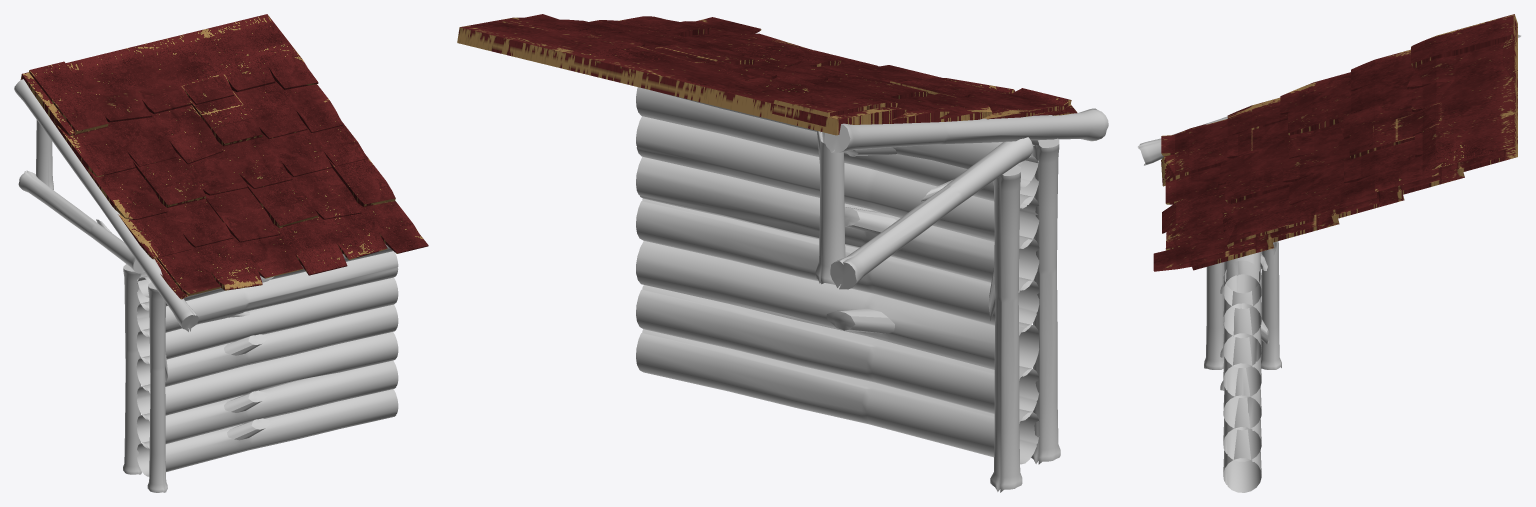
Rendered from logCabin_middleWall.fbx.
The picture shows the model from 3 angles, left to right: view 1: azimuth 30°, elevation 25°; view 2: azimuth 150°, elevation 25°; view 3: azimuth 270°, elevation 25°; orthographic projection. The views are drawn at different scales.
Parts seen in each view (by area): view 1: polySurface45, polySurface46; view 2: polySurface46, polySurface45; view 3: polySurface45, polySurface46.
Part boxes in pixels (bbox=[...]): polySurface45: bbox=[20, 14, 428, 299]; polySurface46: bbox=[14, 79, 398, 492]; polySurface46: bbox=[636, 87, 1108, 492]; polySurface45: bbox=[457, 14, 1077, 135]; polySurface45: bbox=[1153, 14, 1517, 271]; polySurface46: bbox=[1138, 34, 1520, 492].
Size of the model in its own units: 276 by 334 by 327.
